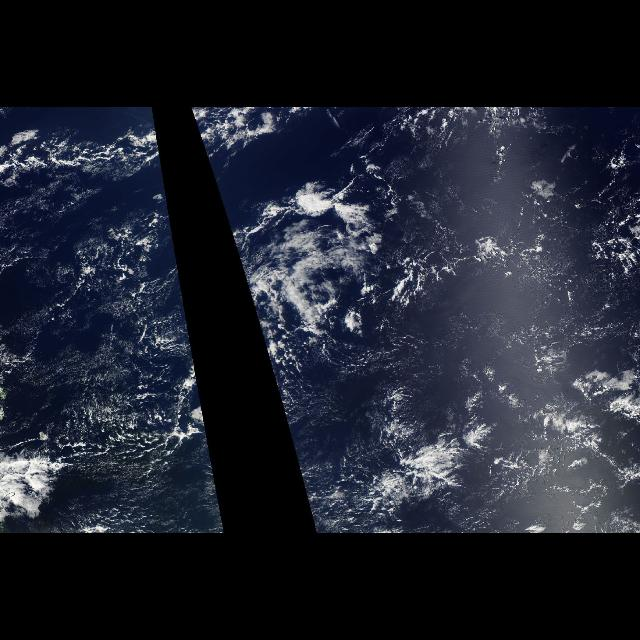Gravel: (19, 148, 207, 510), (444, 373, 620, 507)
